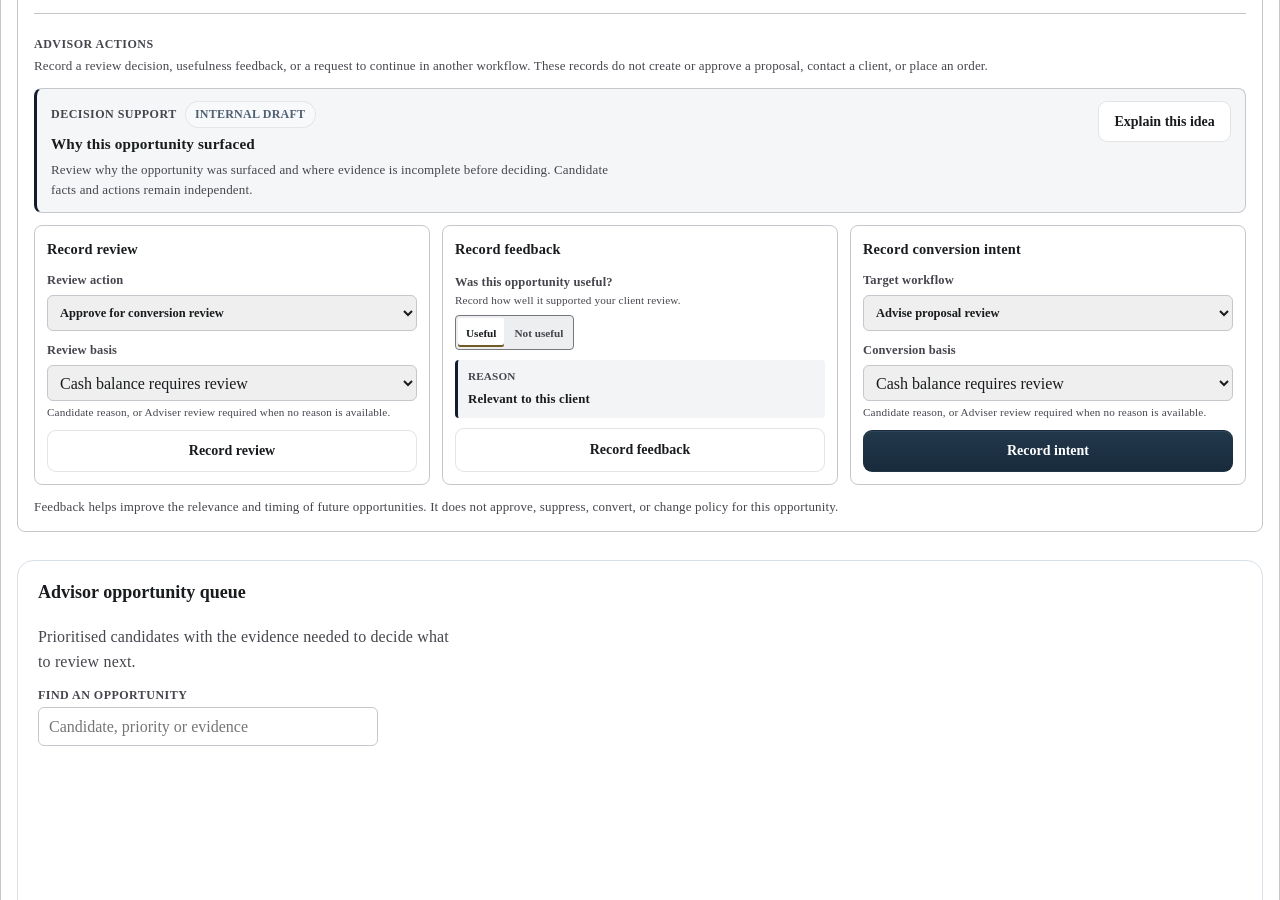
it: AdvisoryOpportunitiesWorkspace › shows an explicit failure state when Gateway cannot record an action
The width and height of the screenshot is (1280, 900).
(page scrolled)
Expected: the element named "Idea candidate advisor actions" is shown, x1=34 y1=13 x2=1246 y2=517
Click the button "Record feedback": (640, 450) x1=455 y1=428 x2=825 y2=472
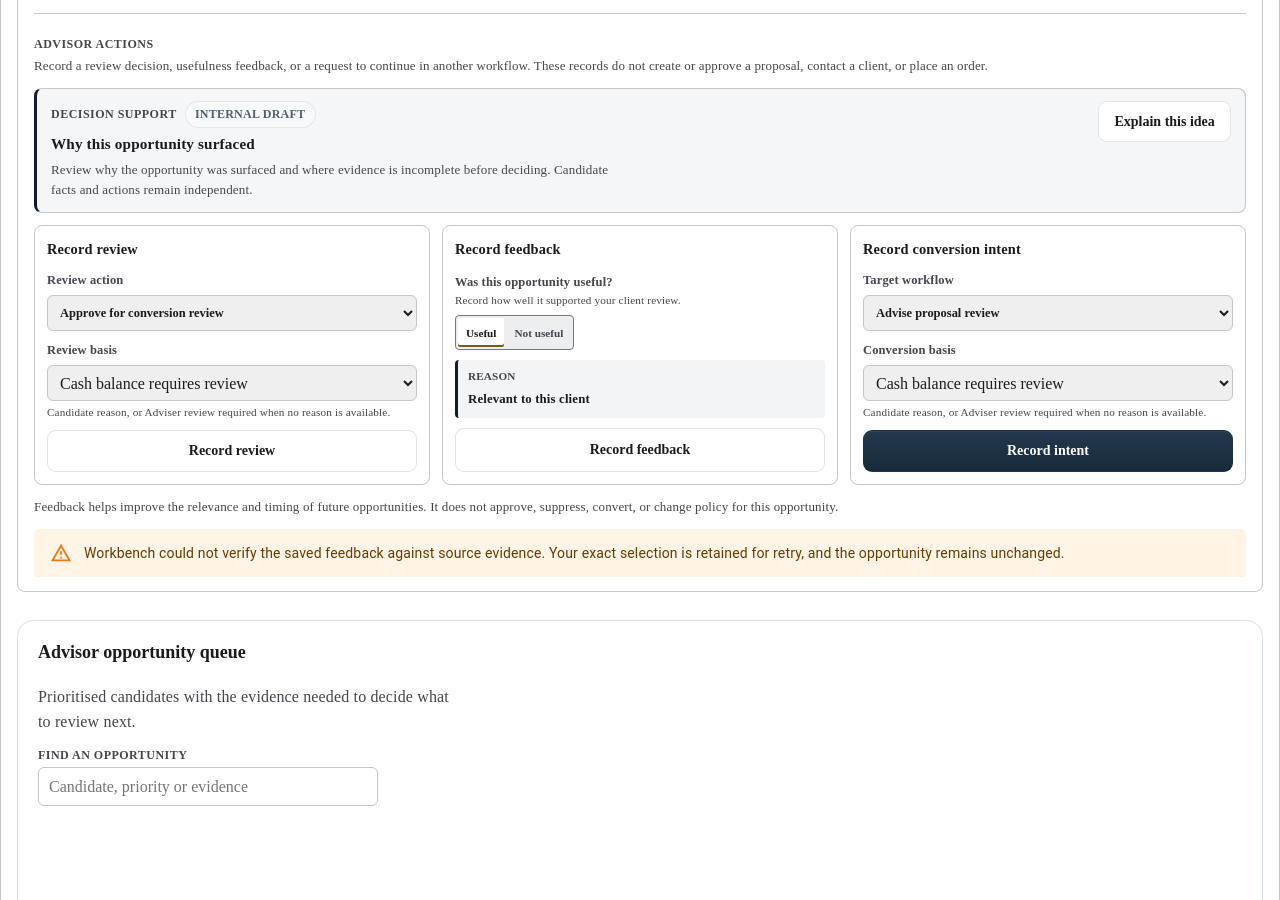
Expected: the message with test id "idea-action-error" shows "Workbench could not verify the saved feedback against source evidence.", x1=84 y1=545 x2=1065 y2=561
